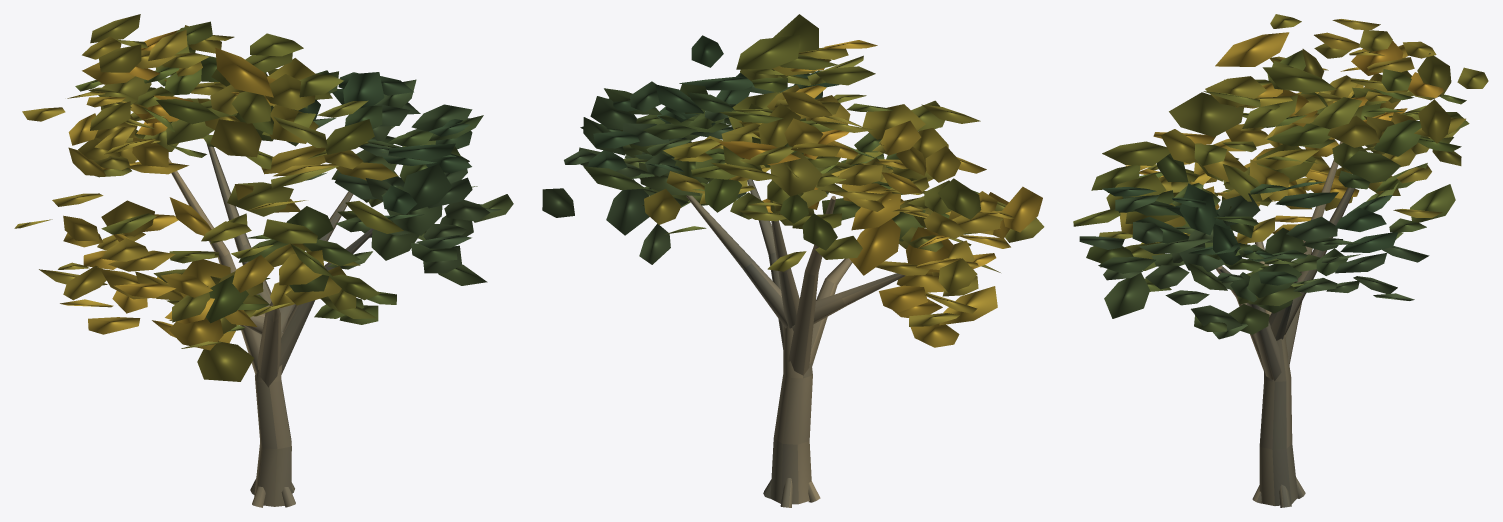
Rendered from HK_Tree_RoundLow.lod.glb.
3 views of the same model, side by side, from view 1: azimuth 30°, elevation 25°; view 2: azimuth 150°, elevation 25°; view 3: azimuth 270°, elevation 25° (orthographic). The views are drawn at different scales.
Visible parts, largest first — view 1: HK_Tree_RoundLow; view 2: HK_Tree_RoundLow; view 3: HK_Tree_RoundLow.
Boxes of the visible parts, x1,y1,x2,y2 form: HK_Tree_RoundLow: (14, 14, 513, 507); HK_Tree_RoundLow: (542, 14, 1044, 507); HK_Tree_RoundLow: (1073, 14, 1488, 507).
Bounding box in the file's own units: 8.06 × 8.39 × 7.11.
